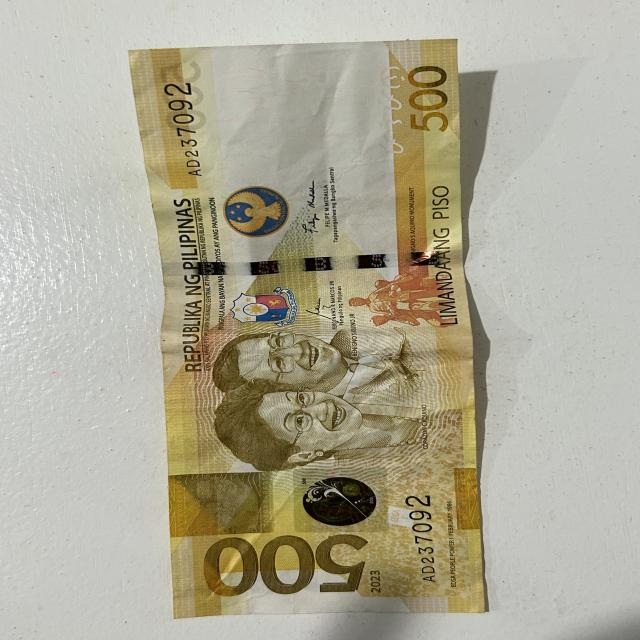concealed_value: (167, 478, 268, 532)
optically_variable_device: (297, 472, 381, 530)
security_thread: (169, 253, 452, 279)
see_through_mark: (376, 60, 408, 160)
serial_number: (161, 74, 208, 184), (401, 494, 445, 590)
value: (199, 533, 363, 595)
